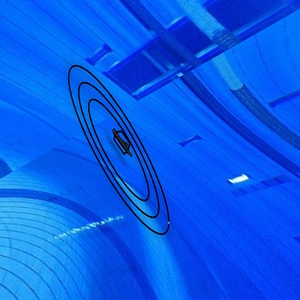circle: (57, 61, 185, 243)
submarine: (107, 127, 137, 161)
